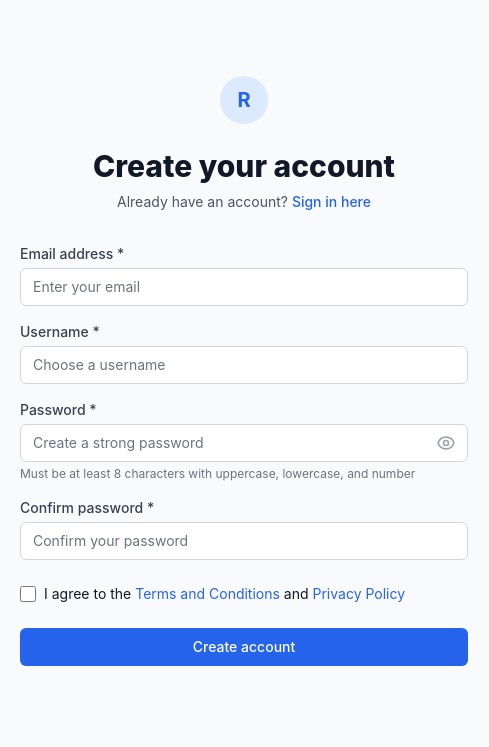
Scenario: RegisterPage › shows validation errors for invalid input
Click the button "Create account" at (244, 647), box [20,628,468,666]
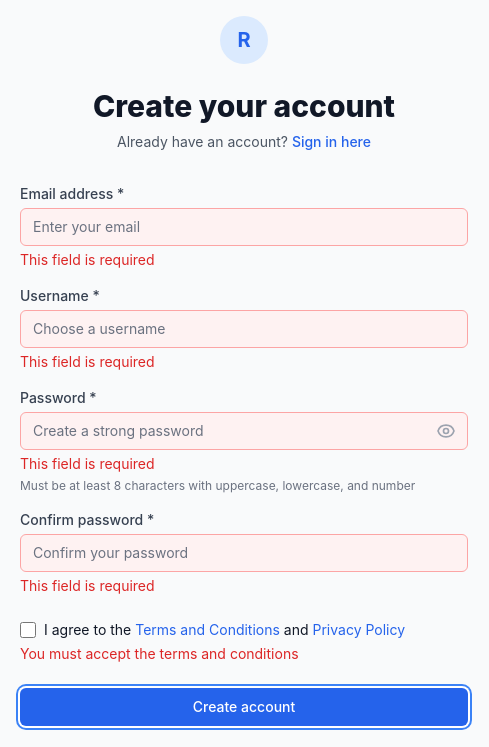
Now the text "This field is required" is shown 4 times, box [20,251,155,268]; [20,353,155,370]; [20,455,155,472]; [20,577,155,594]
Now the text "You must accept the terms and conditions" is shown, box [20,645,298,662]
